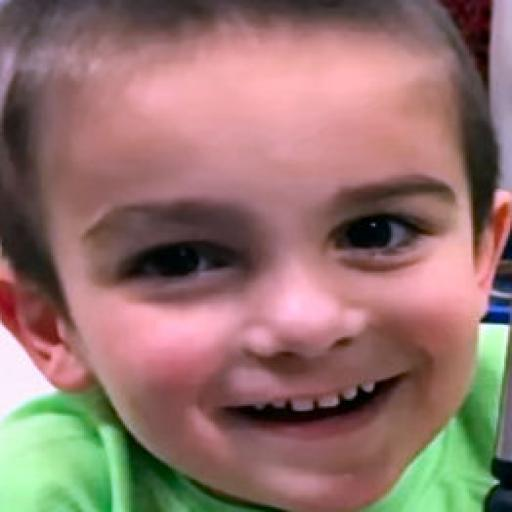Autism: (9, 4, 511, 512)
